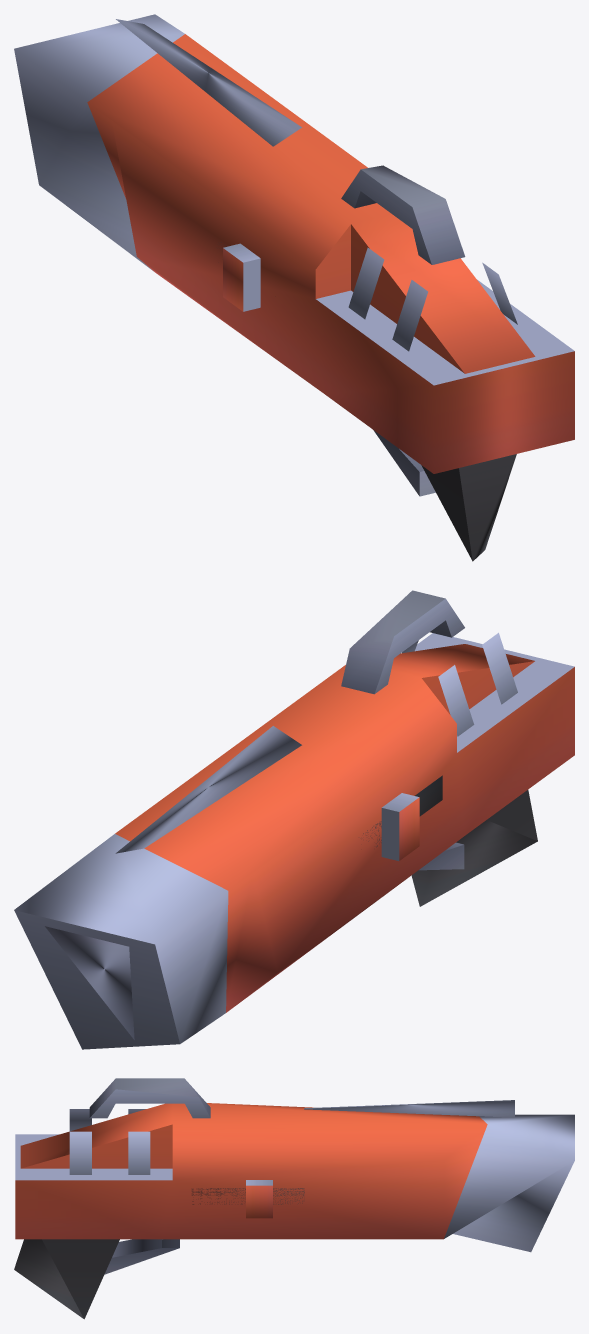
File: blaster-h.glb
The picture shows the model from 3 angles, top to bottom: view 1: azimuth 30°, elevation 25°; view 2: azimuth 150°, elevation 25°; view 3: azimuth 270°, elevation 25°; orthographic projection. The views are drawn at different scales.
Visible parts, largest first — view 1: blaster-h; view 2: blaster-h; view 3: blaster-h.
Part boxes in pixels (x1,y1,x2,y2): blaster-h: [14, 14, 574, 561]; blaster-h: [14, 590, 574, 1049]; blaster-h: [14, 1078, 574, 1319].
Bounding box in the file's own units: 0.15 × 0.2745 × 0.6199.
Materials: 1 (1 with a texture image).
